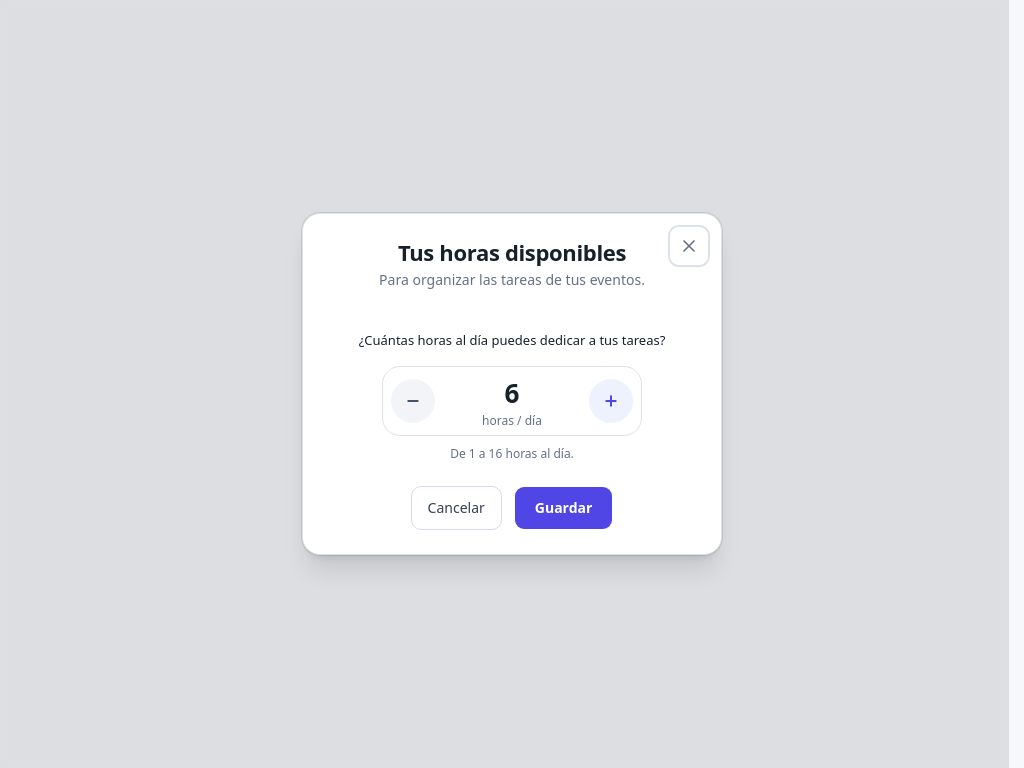
Test: DailyLimitDialog › valida que el valor esté entre 1 y 16 horas
Replace the text in the number field with "20" at (512, 393), box [439,375,585,411]
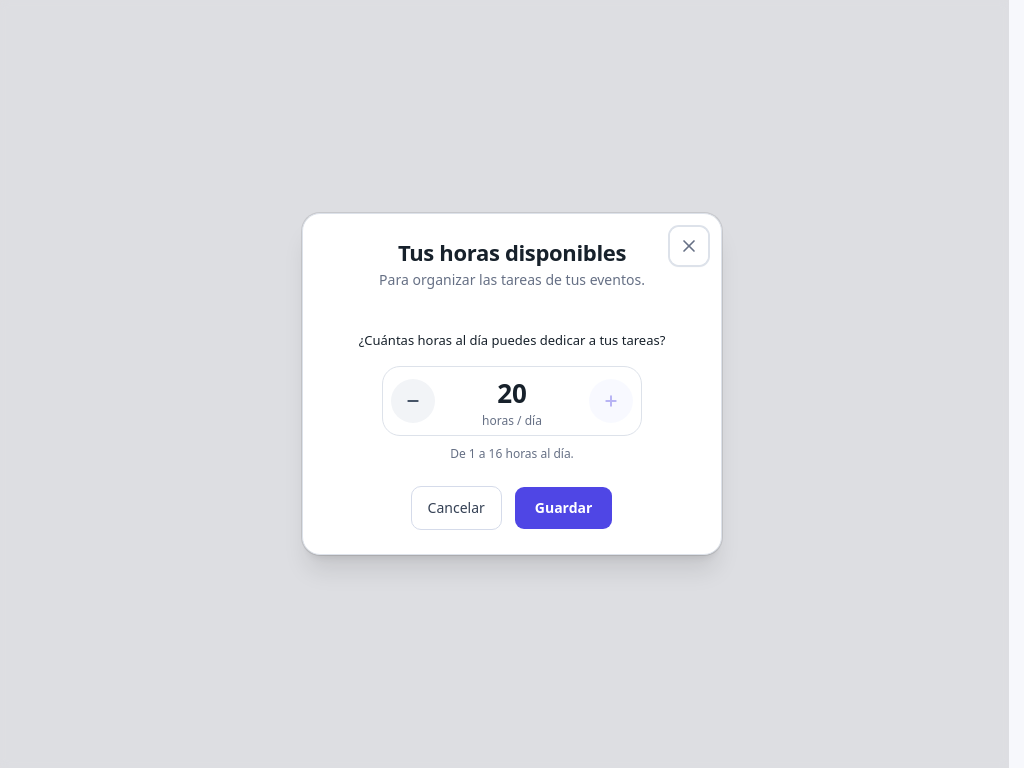
Click the button "Guardar" at (564, 508), box [514,486,613,530]
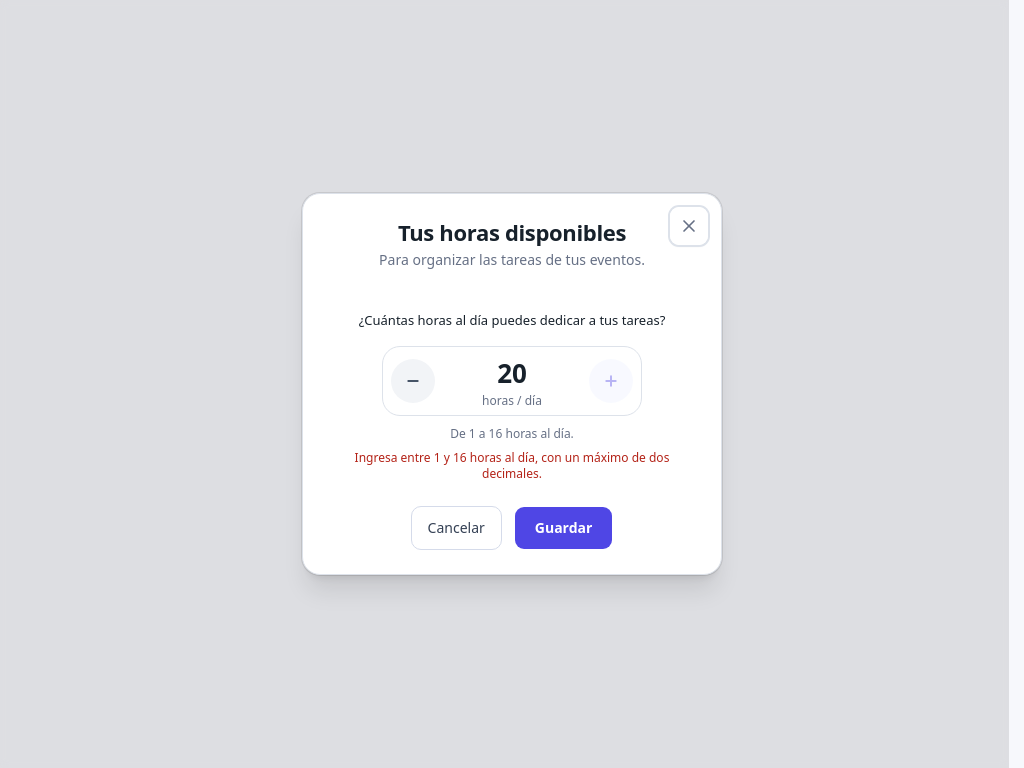
Check: the text "Ingresa entre 1 y 16 horas al día, con un máximo de dos decimales." is shown, box [327,450,697,482]
